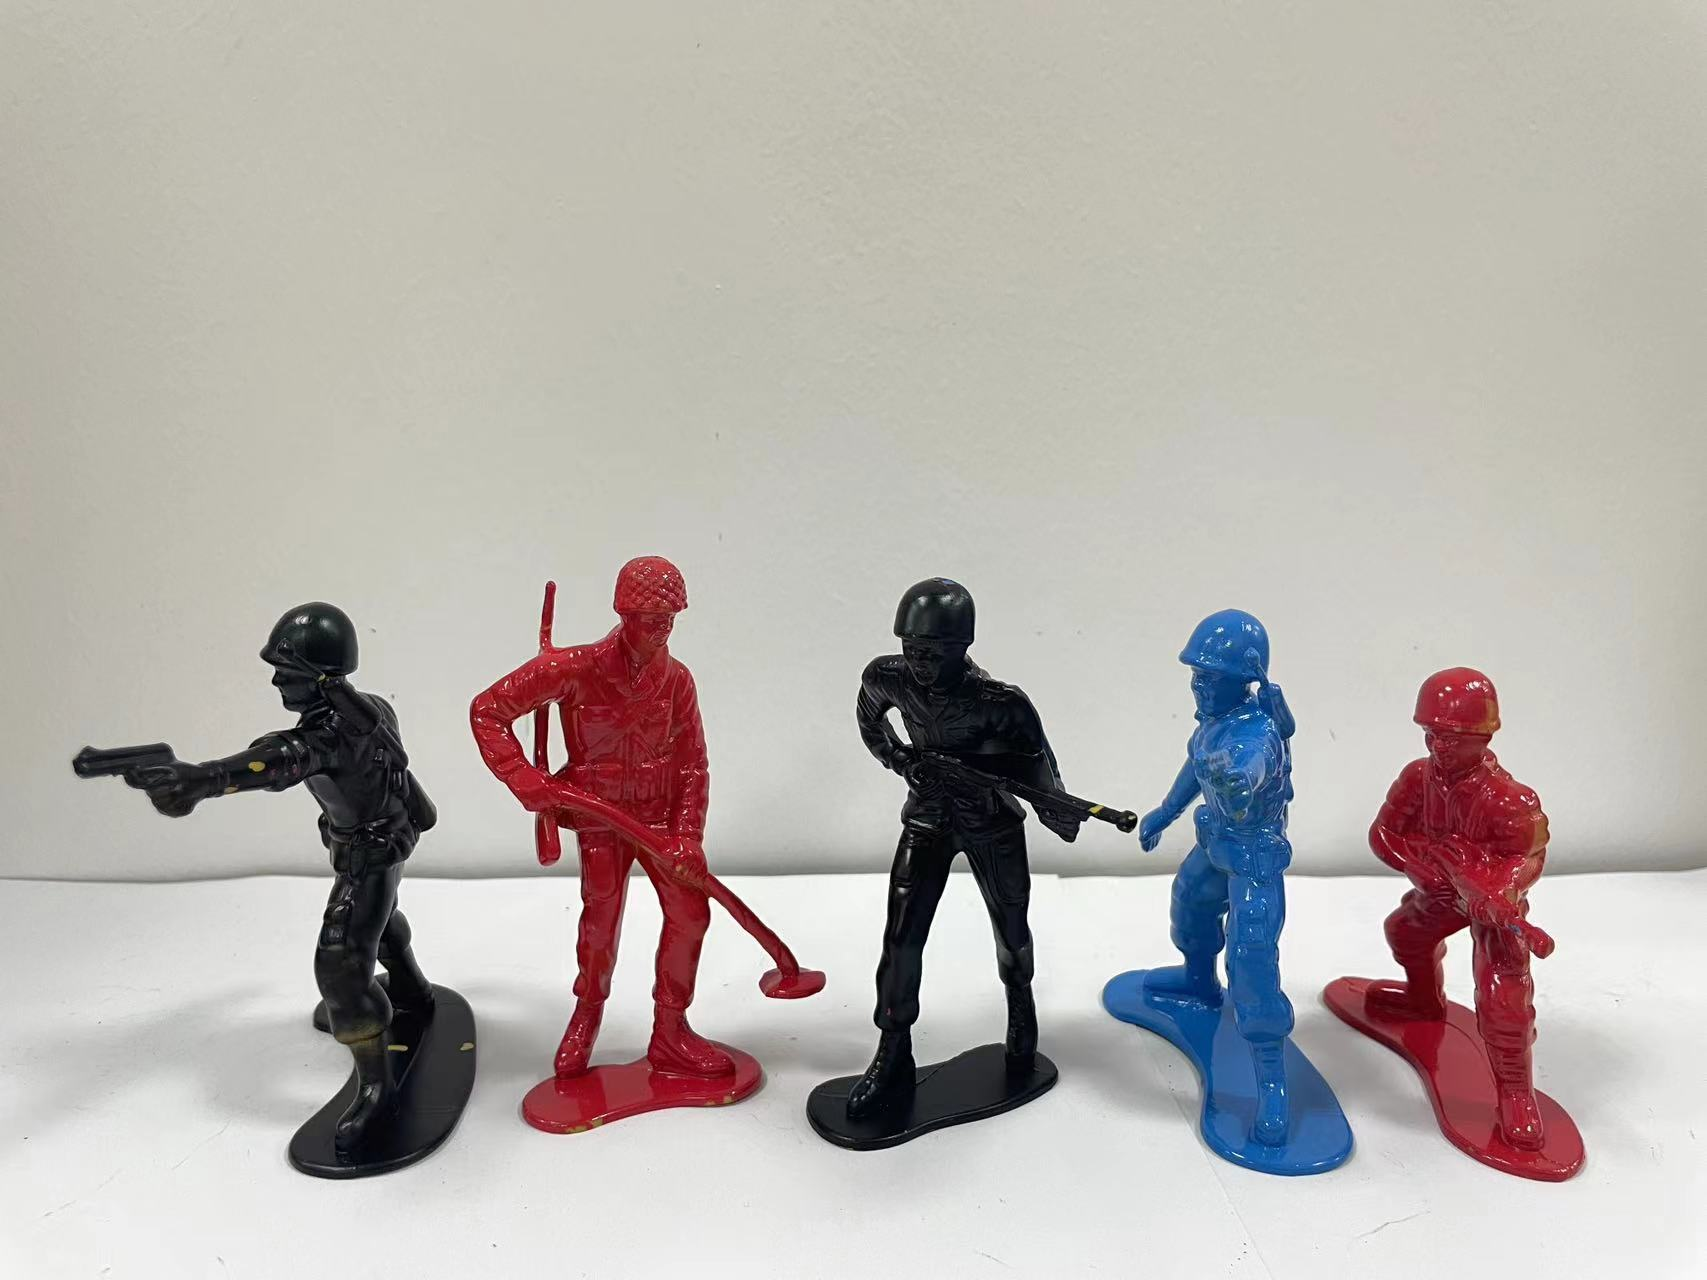black: (65, 567, 478, 1203), (798, 541, 1122, 1164)
blue: (1122, 597, 1341, 1189)
red: (462, 516, 808, 1185), (1327, 651, 1629, 1209)
